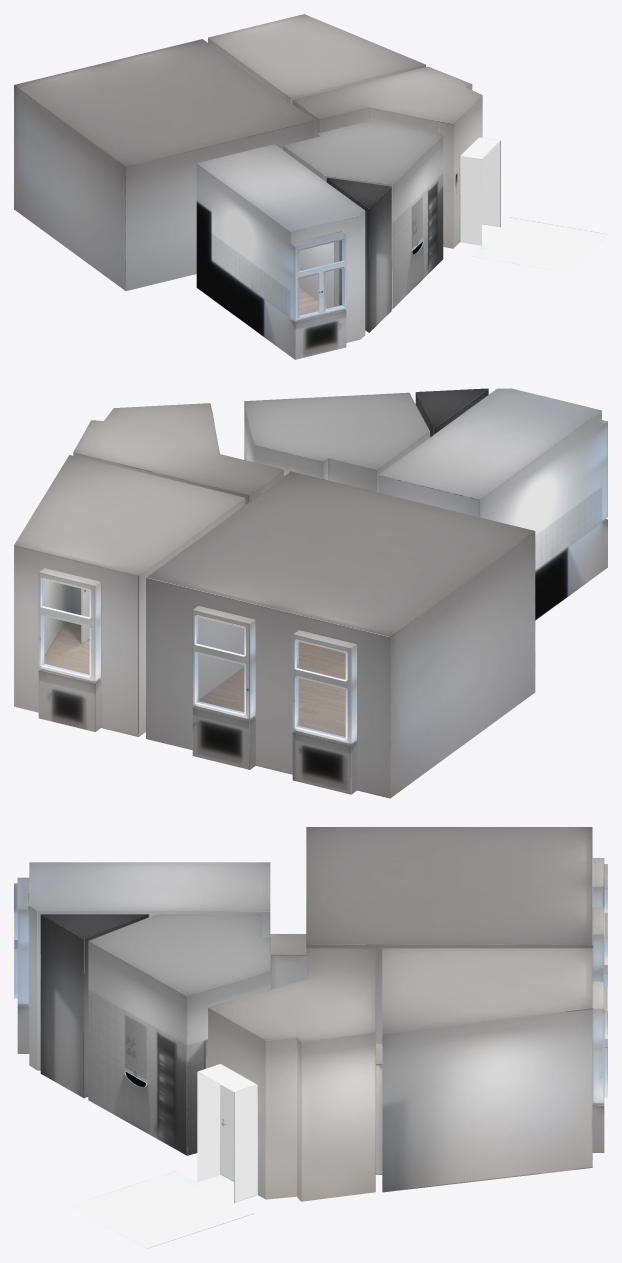
File: example_07.glb
3 views of the same model, one above another, from view 1: azimuth 30°, elevation 25°; view 2: azimuth 150°, elevation 25°; view 3: azimuth 270°, elevation 25° (orthographic). The views are drawn at different scales.
Visible parts, largest first — view 1: wohnung.003; view 2: wohnung.003; view 3: wohnung.003.
Boxes of the visible parts, x1=… form: wohnung.003: x1=14, y1=14, x2=607, y2=359; wohnung.003: x1=14, y1=388, x2=607, y2=798; wohnung.003: x1=14, y1=827, x2=607, y2=1248.
Size of the model in its own units: 10.16 by 2.88 by 9.72.
1 material, 1 textured.
